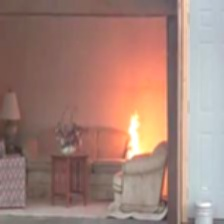fire: (112, 100, 157, 170)
